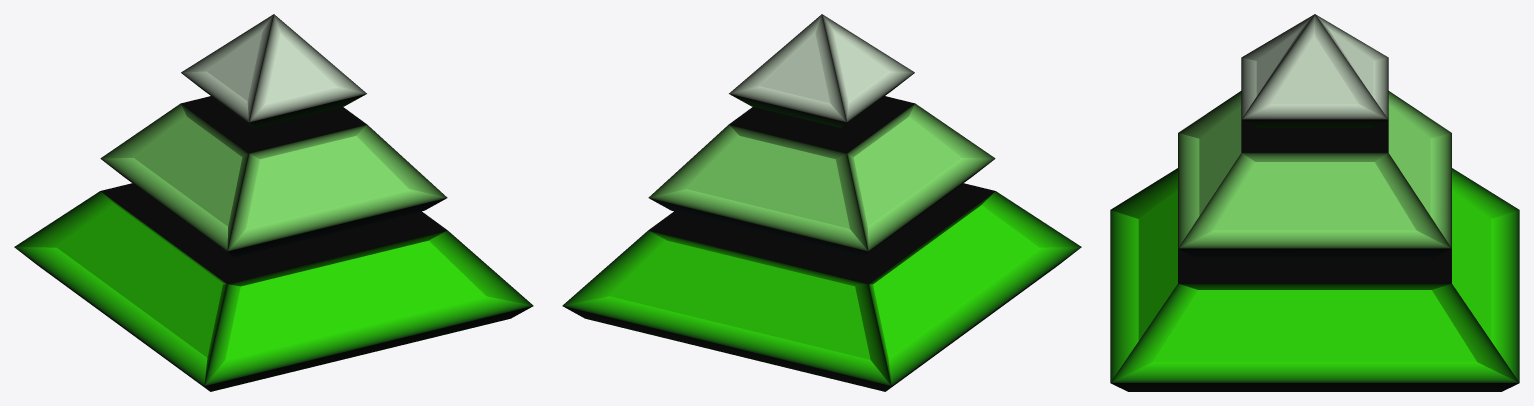
The picture shows the model from 3 angles, left to right: view 1: azimuth 30°, elevation 25°; view 2: azimuth 150°, elevation 25°; view 3: azimuth 270°, elevation 25°; orthographic projection. The views are drawn at different scales.
Parts seen in each view (by area): view 1: Pyramid; view 2: Pyramid; view 3: Pyramid.
Boxes of the visible parts, box(x1,y1,x2,y2) form: Pyramid: box(14, 14, 533, 391); Pyramid: box(562, 14, 1081, 391); Pyramid: box(1110, 14, 1519, 391).
Bounding box in the file's own units: 20.26 × 16.32 × 20.26.
